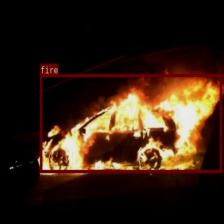fire: (40, 74, 222, 172)
